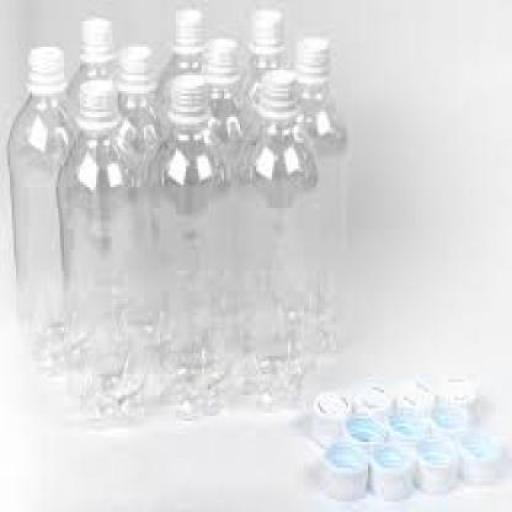plastic: (58, 78, 156, 416), (234, 66, 320, 402), (160, 70, 236, 416), (11, 44, 78, 374), (290, 34, 346, 351), (110, 41, 168, 169), (196, 40, 254, 162), (66, 15, 122, 135), (151, 5, 208, 119), (236, 10, 292, 116), (370, 439, 418, 501), (324, 434, 370, 496), (434, 364, 480, 426), (460, 429, 508, 481), (418, 432, 462, 486), (396, 372, 436, 426), (356, 374, 396, 426), (316, 388, 354, 442)
